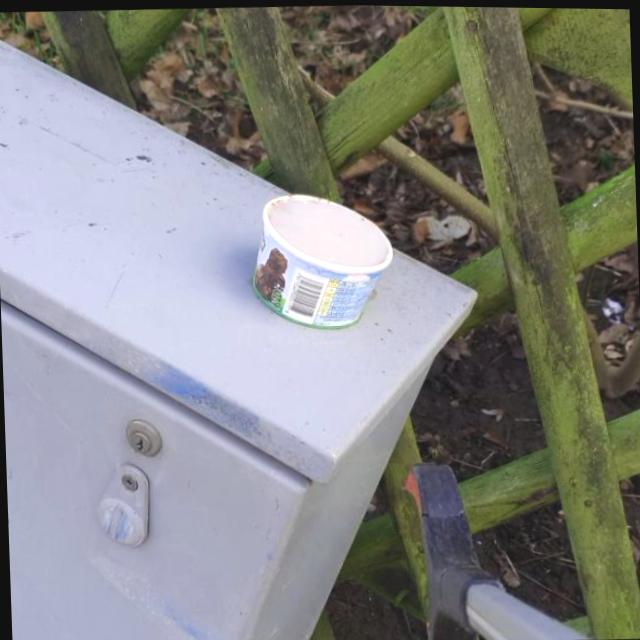Paper: (246, 186, 398, 335)
